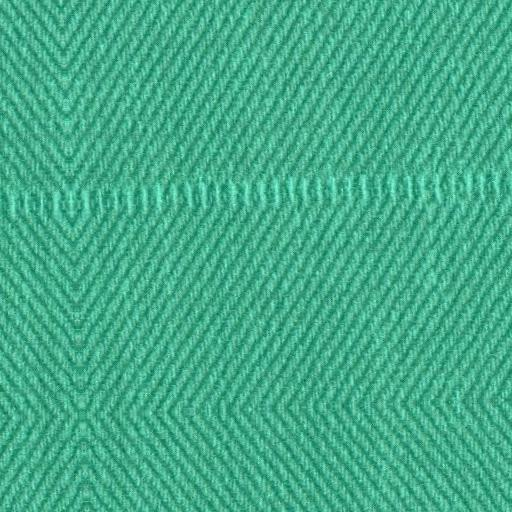slub: (3, 160, 512, 235)
